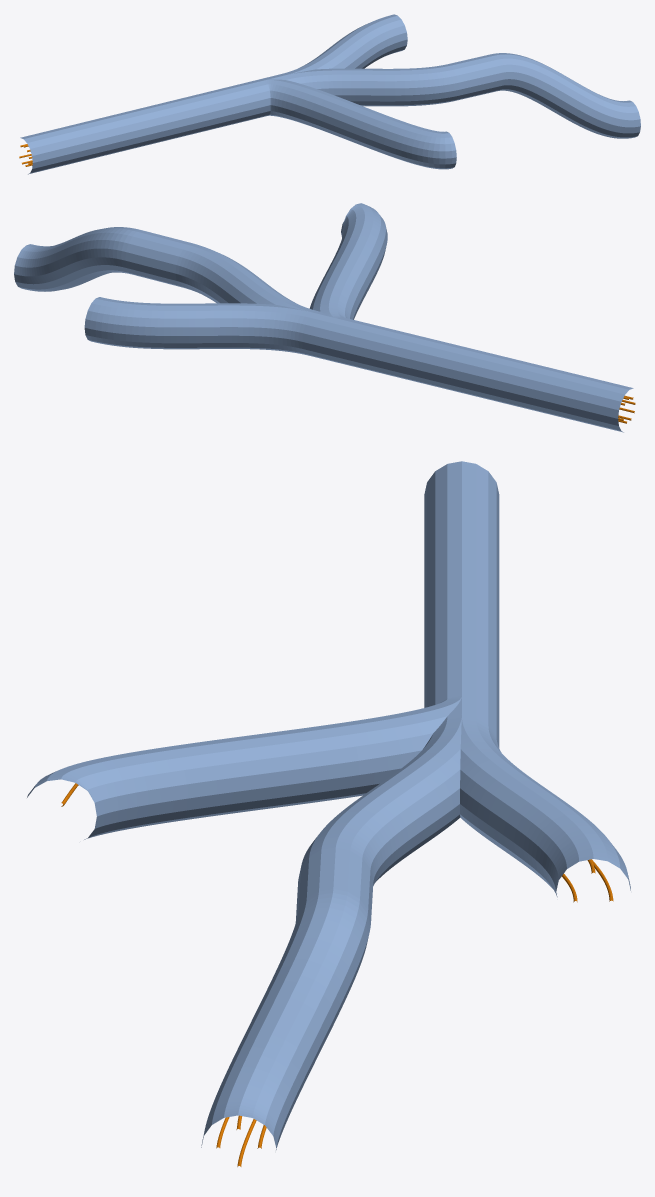
File: 4_A20016148_deep_tree.glb
The picture shows the model from 3 angles, top to bottom: view 1: azimuth 30°, elevation 25°; view 2: azimuth 150°, elevation 25°; view 3: azimuth 270°, elevation 25°; orthographic projection. The views are drawn at different scales.
Visible parts, largest first — view 1: world; view 2: world; view 3: world.
Boxes of the visible parts, x1,y1,x2,y2 form: world: (19,14,640,174); world: (14,203,635,432); world: (27,461,630,1166).
Bounding box in the file's own units: 340 × 53.35 × 161.
